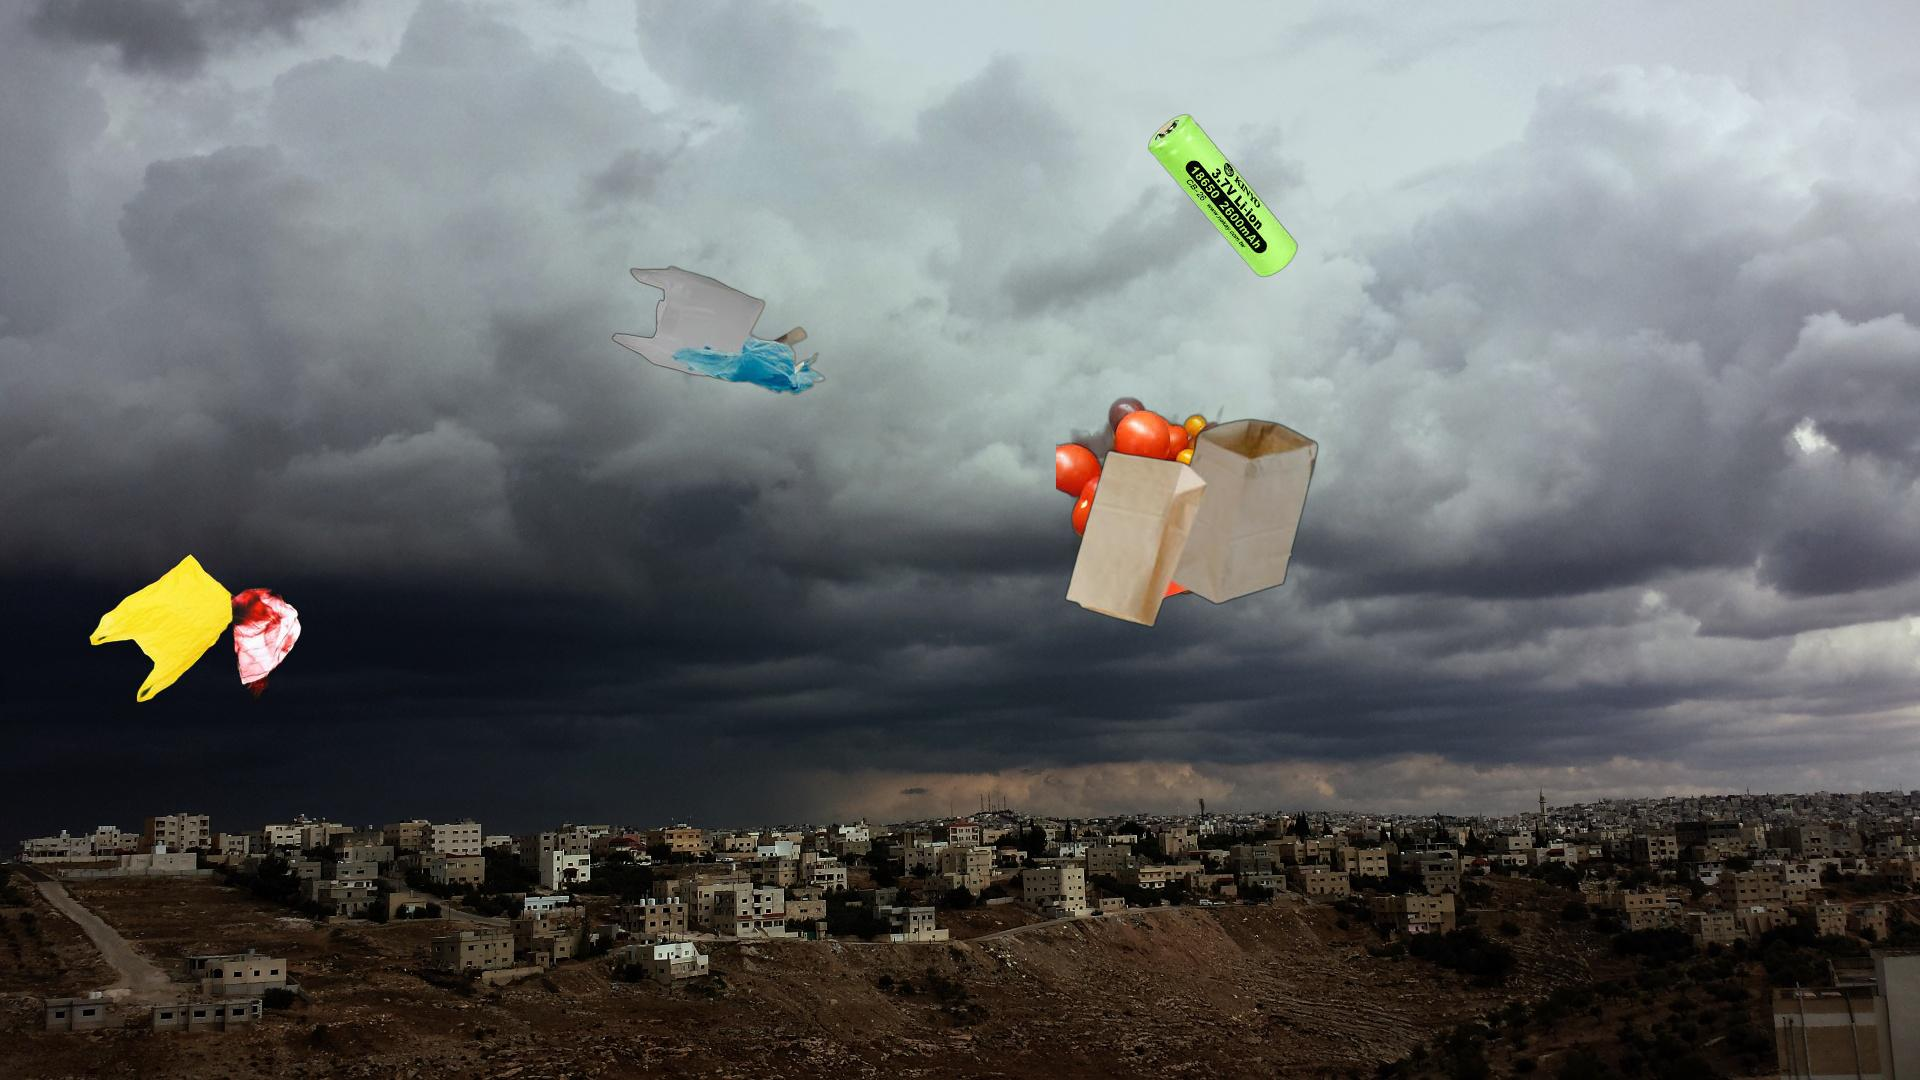battery: (1145, 112, 1300, 280)
biological: (1056, 365, 1250, 624)
glass: (1829, 87, 1920, 770)
paper-bag: (1063, 415, 1319, 630)
plastic-bag: (88, 551, 305, 708), (609, 251, 827, 398)
